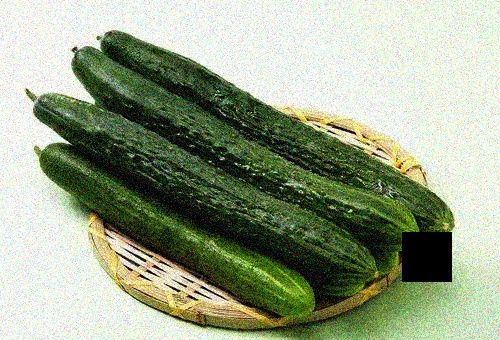cucumber: (101, 25, 449, 230), (72, 49, 427, 236), (31, 90, 370, 276), (33, 141, 311, 310)
